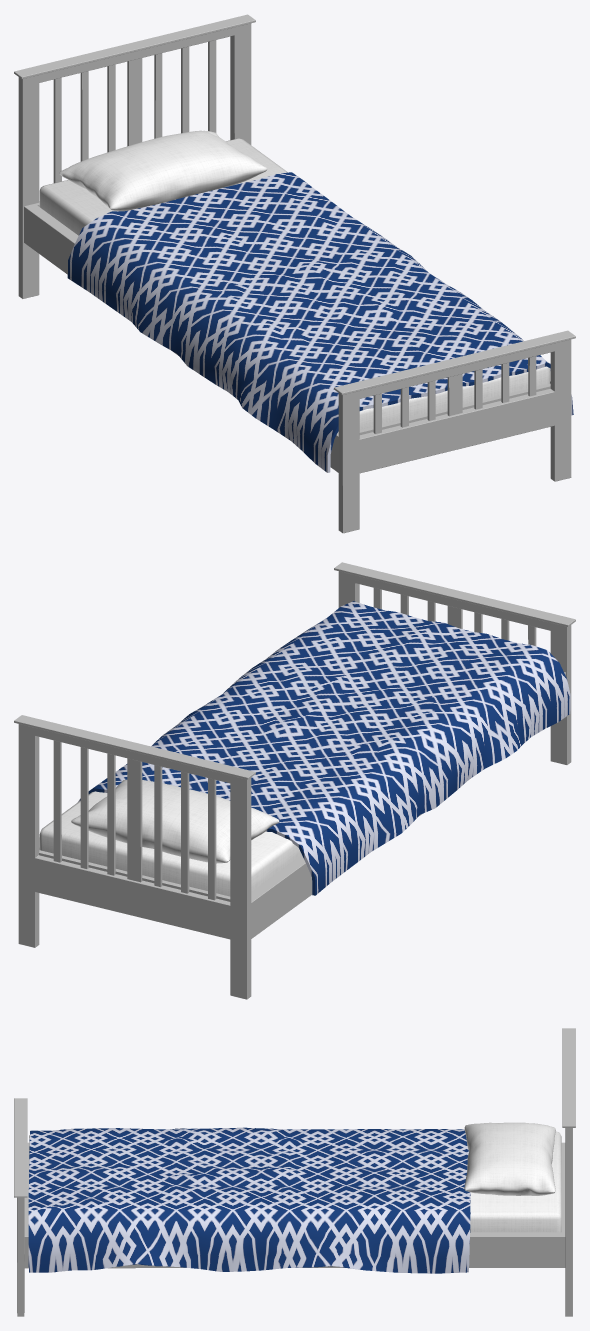
The model's file is OnePerson_Bed.fbx.
3 renders of one model, top to bottom at view 1: azimuth 30°, elevation 25°; view 2: azimuth 150°, elevation 25°; view 3: azimuth 270°, elevation 25°, orthographic. The views are drawn at different scales.
Visible parts, largest first — view 1: OnePerson_Bed_LOD_0; view 2: OnePerson_Bed_LOD_0; view 3: OnePerson_Bed_LOD_0.
Part boxes in pixels (x1,y1,x2,y2): OnePerson_Bed_LOD_0: [14, 14, 575, 533]; OnePerson_Bed_LOD_0: [14, 562, 575, 999]; OnePerson_Bed_LOD_0: [14, 1028, 575, 1316].
Size of what is drawn, in the model's own units: 100 by 79.55 by 211.
